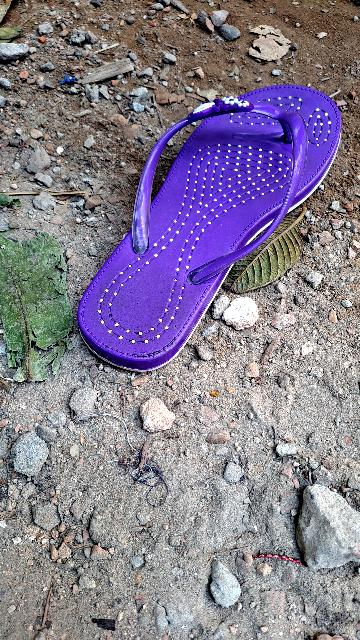sandal: (53, 55, 354, 387)
